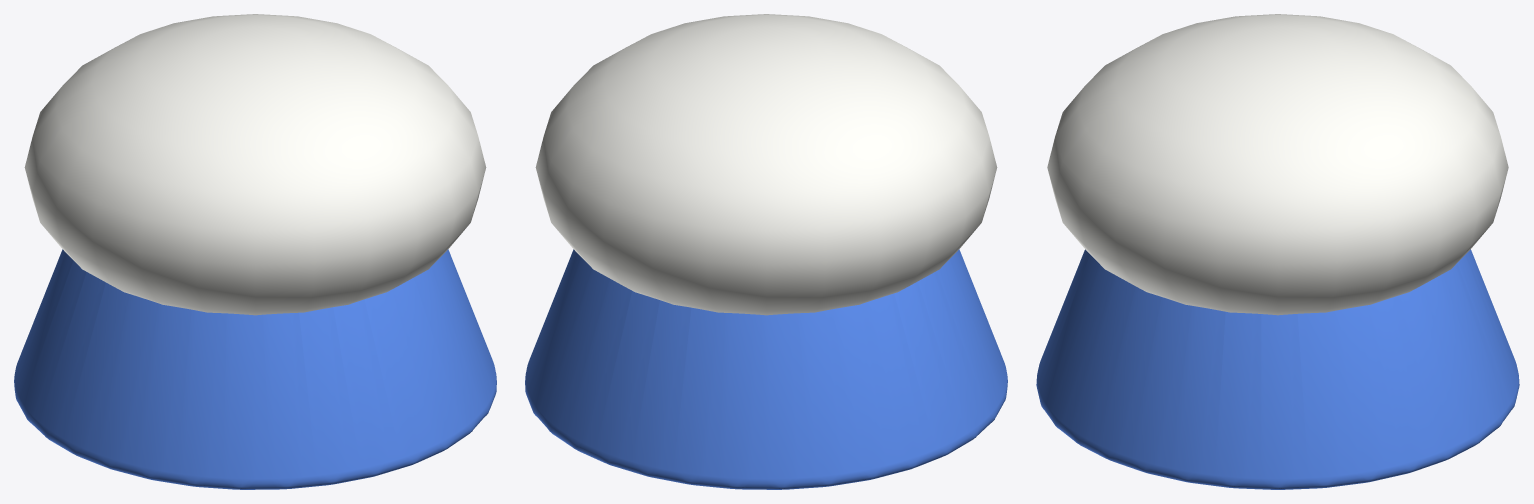
Rendered from Rice.glb.
3 views of the same model, side by side, from view 1: azimuth 30°, elevation 25°; view 2: azimuth 150°, elevation 25°; view 3: azimuth 270°, elevation 25° (orthographic).
Visible parts, largest first — view 1: Sphere, Cone; view 2: Sphere, Cone; view 3: Sphere, Cone.
Part boxes in pixels (left/top/right/bottom): Sphere: left=24, top=14, right=486, bottom=315; Cone: left=14, top=249, right=496, bottom=489; Sphere: left=535, top=14, right=997, bottom=315; Cone: left=525, top=249, right=1007, bottom=489; Sphere: left=1047, top=14, right=1508, bottom=315; Cone: left=1036, top=249, right=1519, bottom=489.
Size of the model in its own units: 0.2931 by 0.23 by 0.2931.
